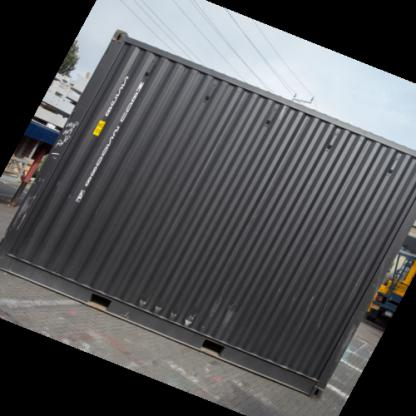Damage: (135, 297, 197, 332), (204, 291, 240, 332), (9, 182, 38, 227)
